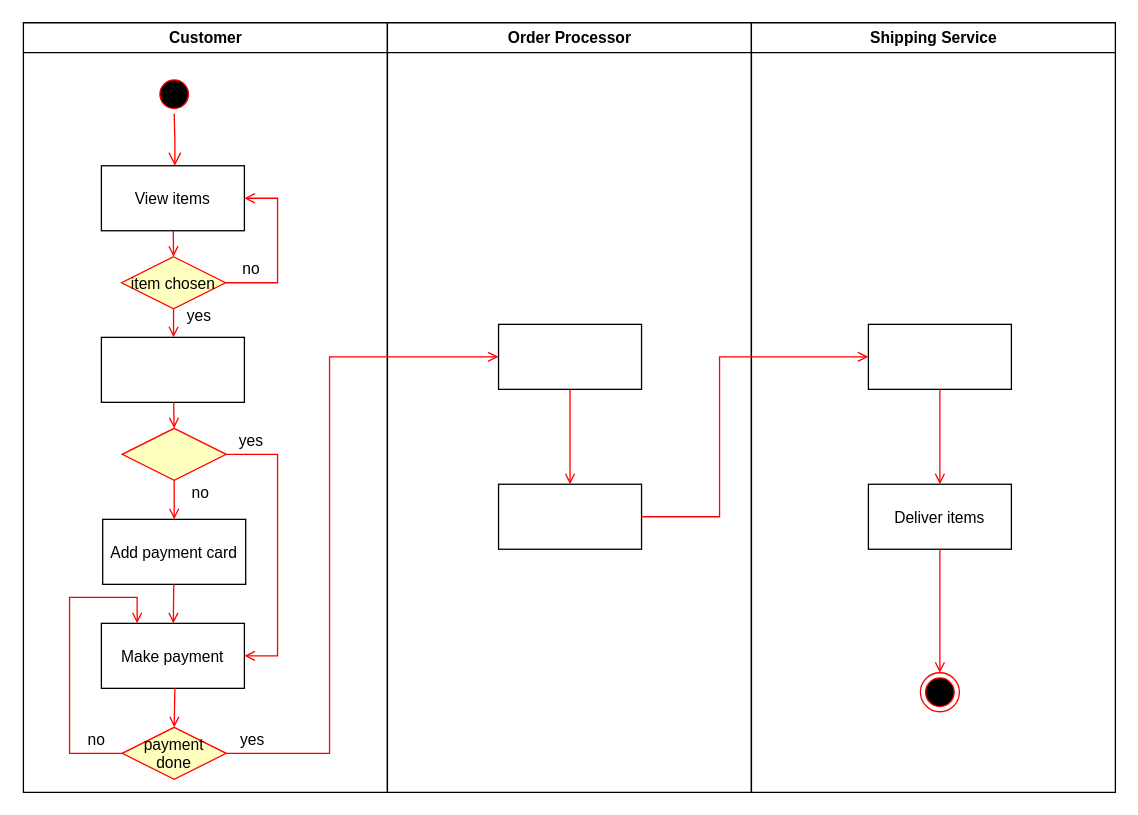
Some shapes in this 1138 by 815 pixel diagram are drawn without their labels. Each missing label, with the centre of its shape:
Add item to cart: [172,369]
payment card added: [173,453]
Prepare items for shipping: [569,516]
Process order: [569,356]
Send tracking number to customer: [939,356]
